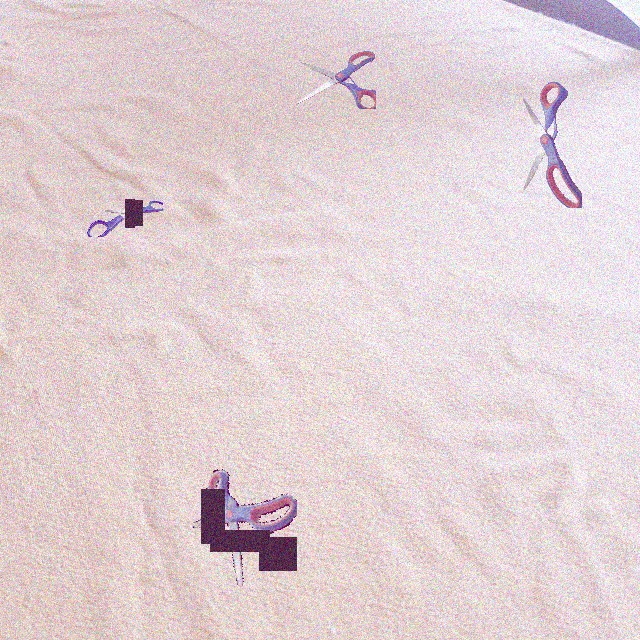scissors: (193, 469, 297, 586), (523, 81, 582, 208), (295, 51, 376, 109), (87, 199, 163, 237)
